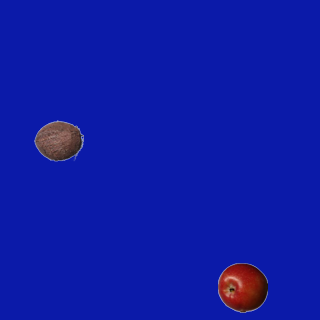Apple Braeburn: (217, 262, 267, 312)
Cocos: (33, 115, 83, 165)
